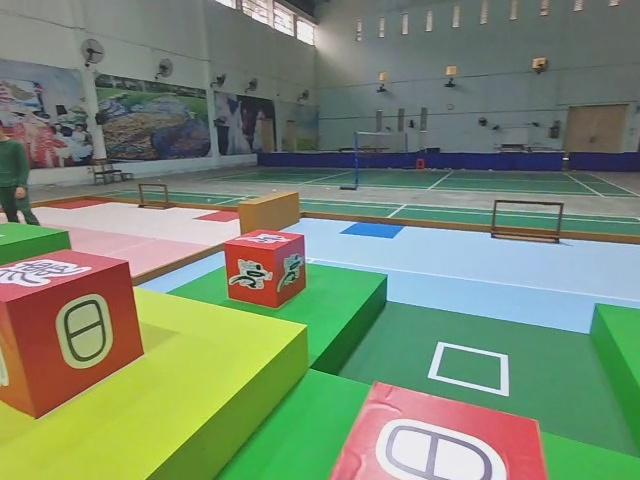R1: (221, 227, 309, 308)
R2 Fake: (0, 245, 146, 419), (327, 377, 549, 480)
